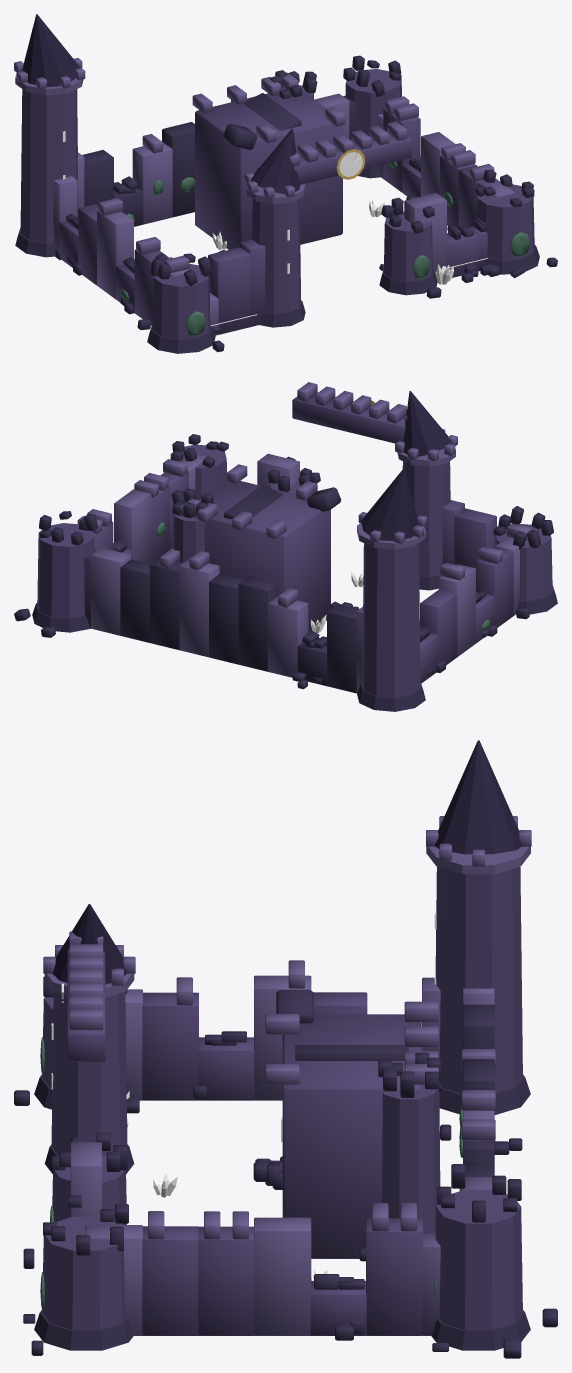
The model's file is DungeonCastle.fbx.
The picture shows the model from 3 angles, top to bottom: view 1: azimuth 30°, elevation 25°; view 2: azimuth 150°, elevation 25°; view 3: azimuth 270°, elevation 25°; orthographic projection. The views are drawn at different scales.
Parts seen in each view (by area): view 1: DungeonCastle__Frame, DungeonCastle__Glow; view 2: DungeonCastle__Frame; view 3: DungeonCastle__Frame.
Part boxes in pixels (x1,y1,x2,y2): DungeonCastle__Frame: (14, 14, 557, 353); DungeonCastle__Glow: (62, 131, 487, 326); DungeonCastle__Frame: (14, 382, 557, 711); DungeonCastle__Frame: (14, 740, 557, 1358).
Size of the model in its own units: 107 by 61.19 by 85.96.
Materials: 1 (1 with a texture image).
